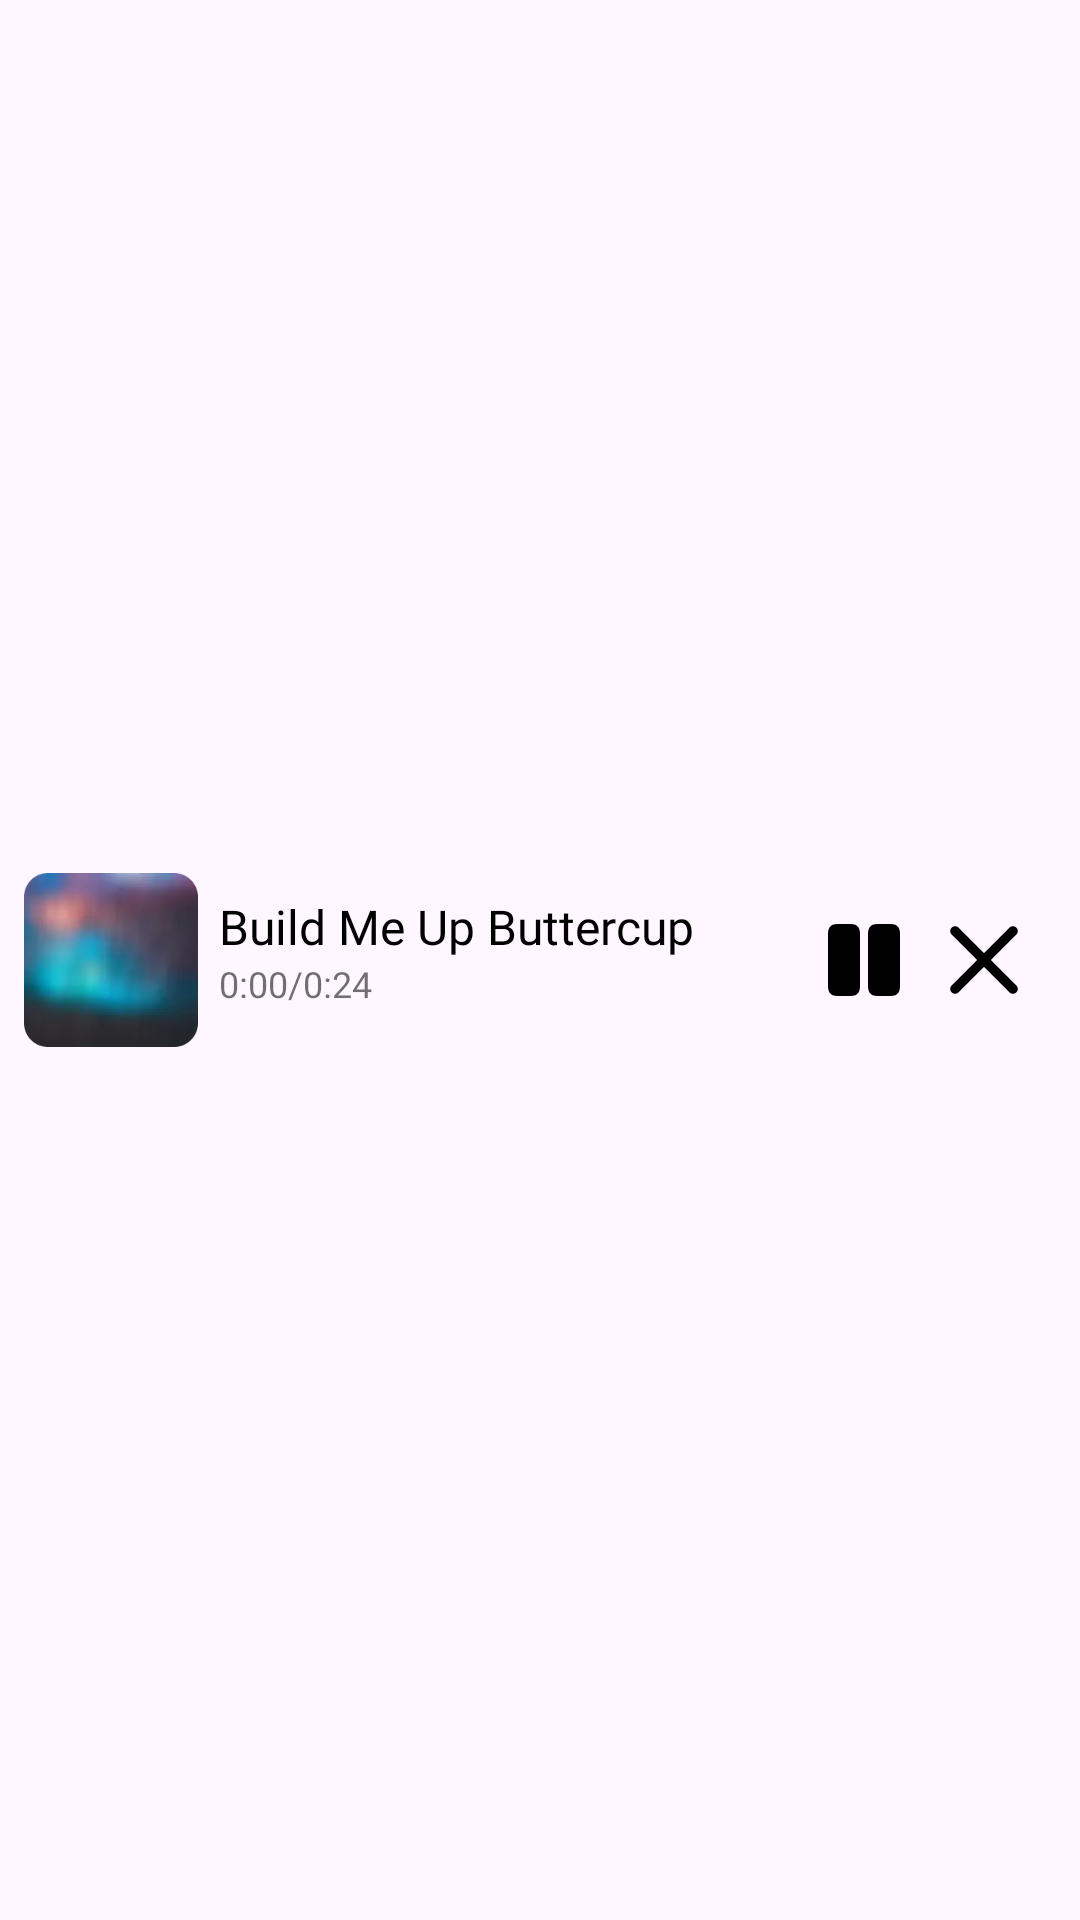

Where icons sit on this 1080×1920 app screen, as (x1, y1, x2, y2):
close: (950, 926, 1018, 994)
music: (24, 873, 198, 1047)
pause: (828, 924, 900, 996)
